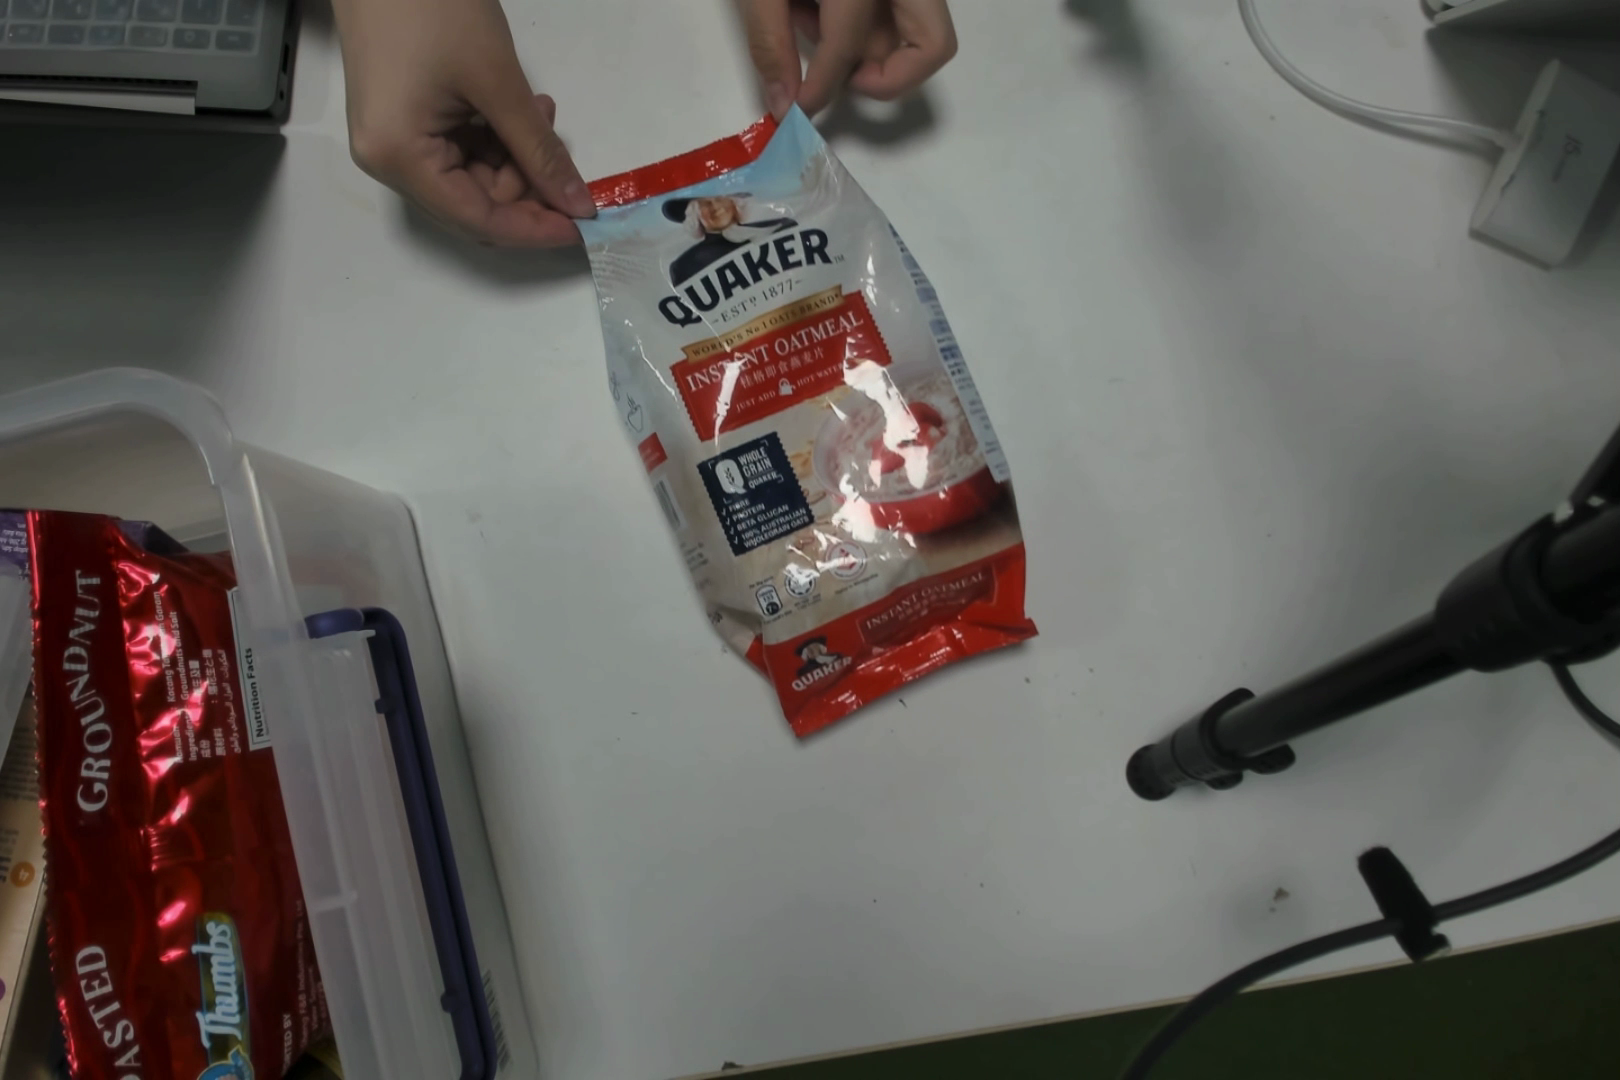RolledOatsInstantOatmeal_400-499g_Halal_Healthy: (634, 129, 1067, 735)
